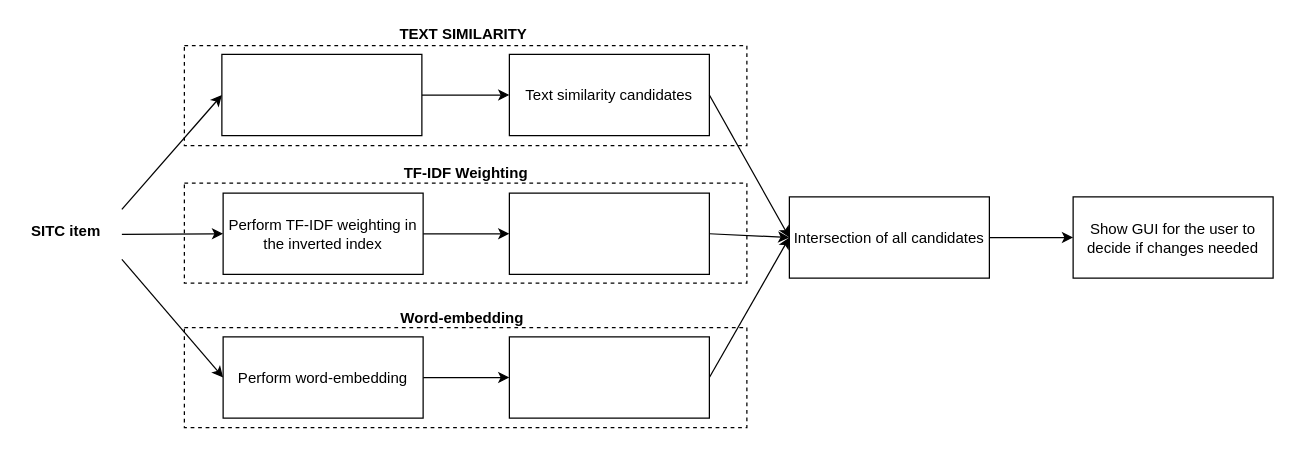
Image size: 1295x449. Some labels were removed from this diagram. The shapes that lost their labels are listed below. From the top down, each one's centre as x and y in pixels, then its label:
pixel 321 94: Perform plain text_similarity with all önace items
pixel 608 233: TF-IDF candidates
pixel 608 377: Word-Embedding candidates
